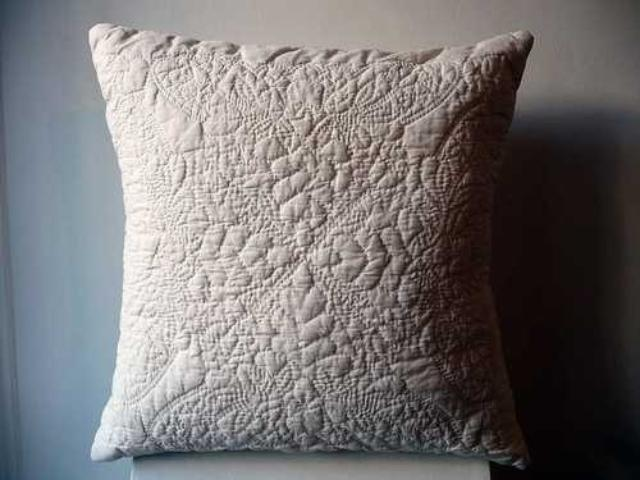pillow: (86, 19, 536, 468)
